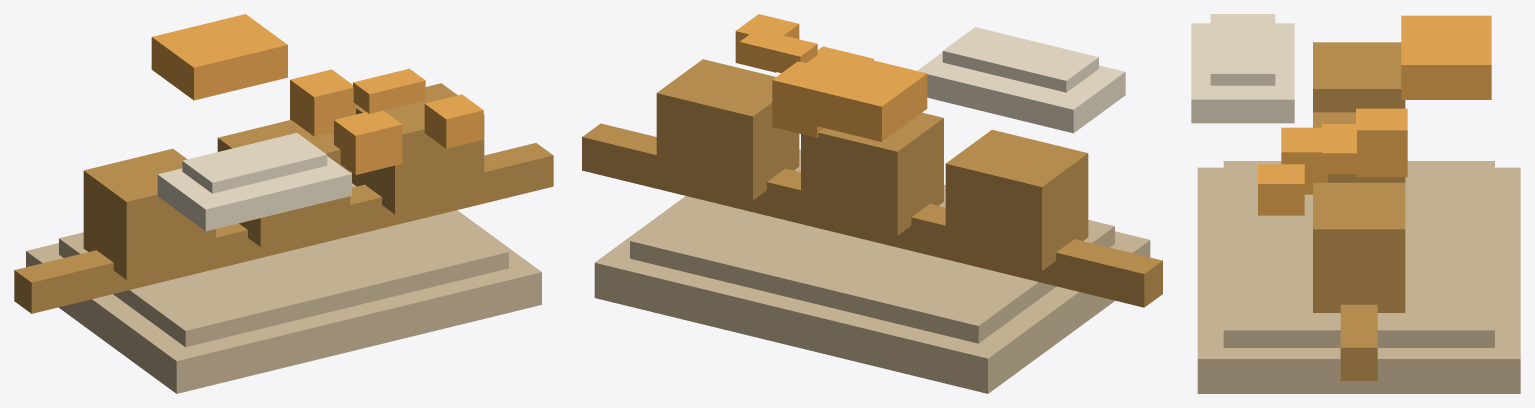
File: product_glaze_skewer.glb
3 renders of one model, left to right at view 1: azimuth 30°, elevation 25°; view 2: azimuth 150°, elevation 25°; view 3: azimuth 270°, elevation 25°, orthographic. The views are drawn at different scales.
Visible parts, largest first — view 1: ProductArt_platter, ProductArt_body, ProductArt_label, ProductArt_accent, ProductArt_garnish; view 2: ProductArt_body, ProductArt_platter, ProductArt_label, ProductArt_accent, ProductArt_garnish; view 3: ProductArt_platter, ProductArt_body, ProductArt_accent, ProductArt_label, ProductArt_garnish.
Part boxes in pixels (x1,y1,x2,y2): ProductArt_platter: (26, 171, 541, 393); ProductArt_body: (14, 83, 553, 313); ProductArt_label: (157, 133, 351, 231); ProductArt_accent: (151, 14, 355, 136); ProductArt_garnish: (334, 68, 483, 174); ProductArt_body: (582, 59, 1162, 307); ProductArt_platter: (594, 149, 1150, 393); ProductArt_label: (917, 27, 1125, 133); ProductArt_accent: (772, 49, 927, 141); ProductArt_garnish: (735, 14, 873, 73); ProductArt_platter: (1197, 161, 1520, 393); ProductArt_body: (1313, 42, 1405, 380); ProductArt_accent: (1356, 15, 1491, 177); ProductArt_label: (1191, 14, 1294, 123); ProductArt_garnish: (1258, 124, 1356, 215).
Size of the model in its own units: 0.24 by 0.1008 by 0.1224.
